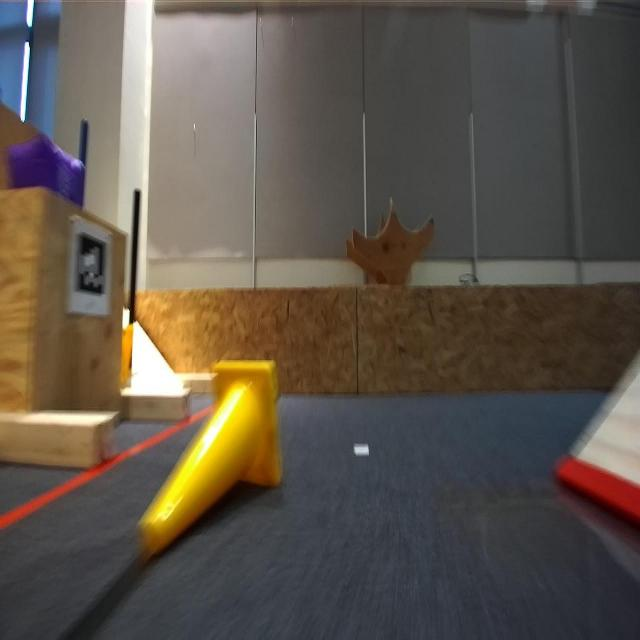frc_cone: (138, 361, 280, 558), (120, 322, 134, 386)
frc_cube: (2, 131, 84, 201)
